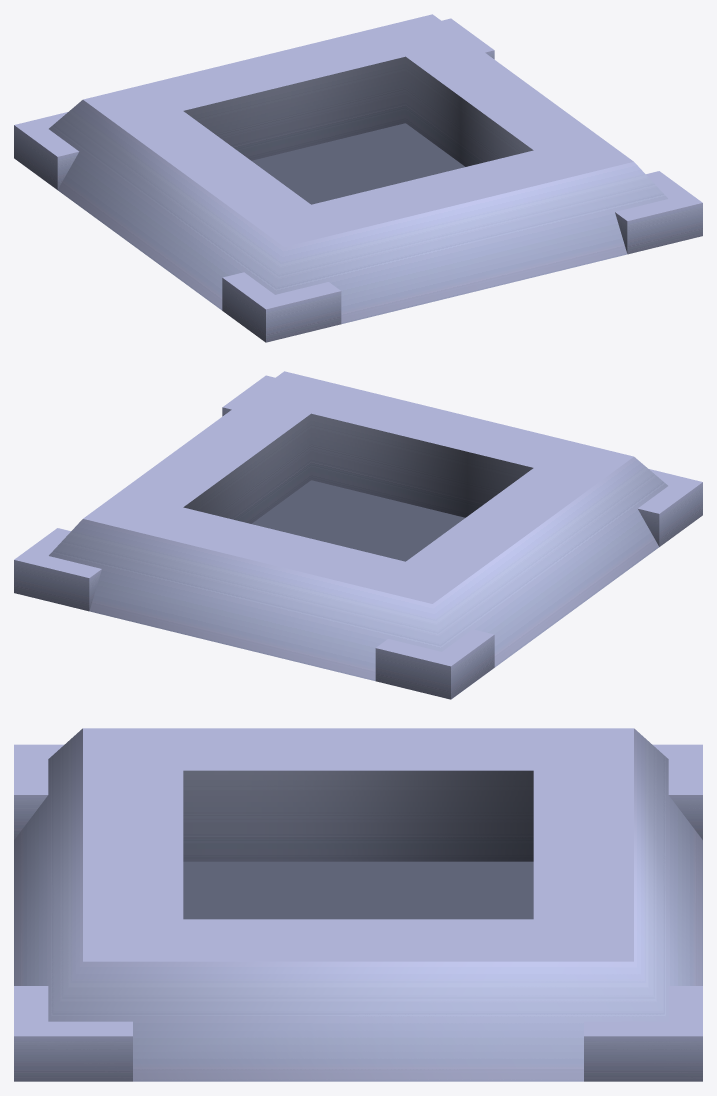
Rendered from spawn-square.glb.
3 renders of one model, top to bottom at view 1: azimuth 30°, elevation 25°; view 2: azimuth 150°, elevation 25°; view 3: azimuth 270°, elevation 25°, orthographic. The views are drawn at different scales.
Visible parts, largest first — view 1: spawn-square; view 2: spawn-square; view 3: spawn-square.
Part boxes in pixels (<box>): spawn-square: <box>14,14,702,342</box>; spawn-square: <box>14,371,702,699</box>; spawn-square: <box>14,728,702,1081</box>.
Size of the model in its own units: 0.6875 by 0.1 by 0.6862.
Materials: 1 (1 with a texture image).
